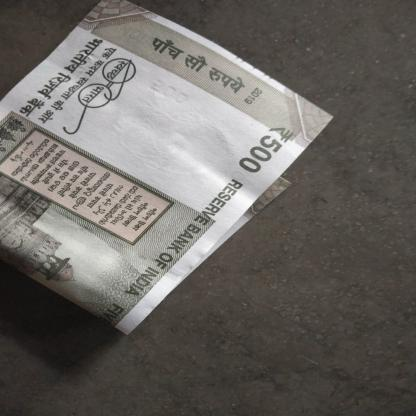New500Back: (4, 3, 328, 325)
